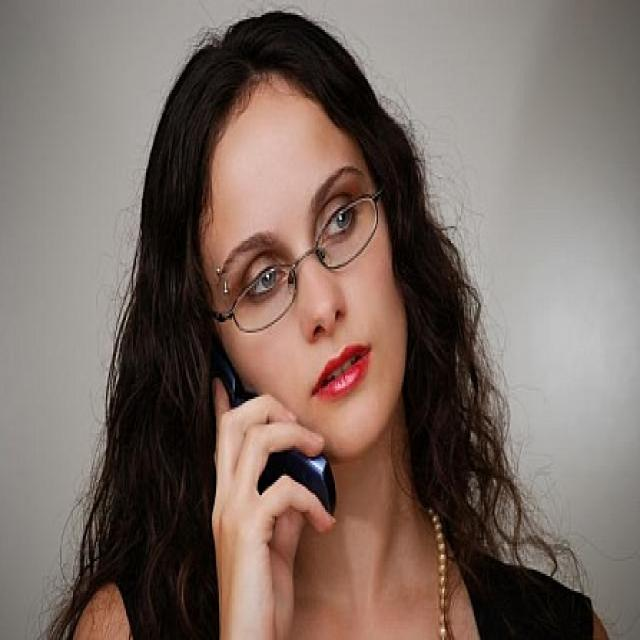Eyes: (226, 182, 378, 316)
